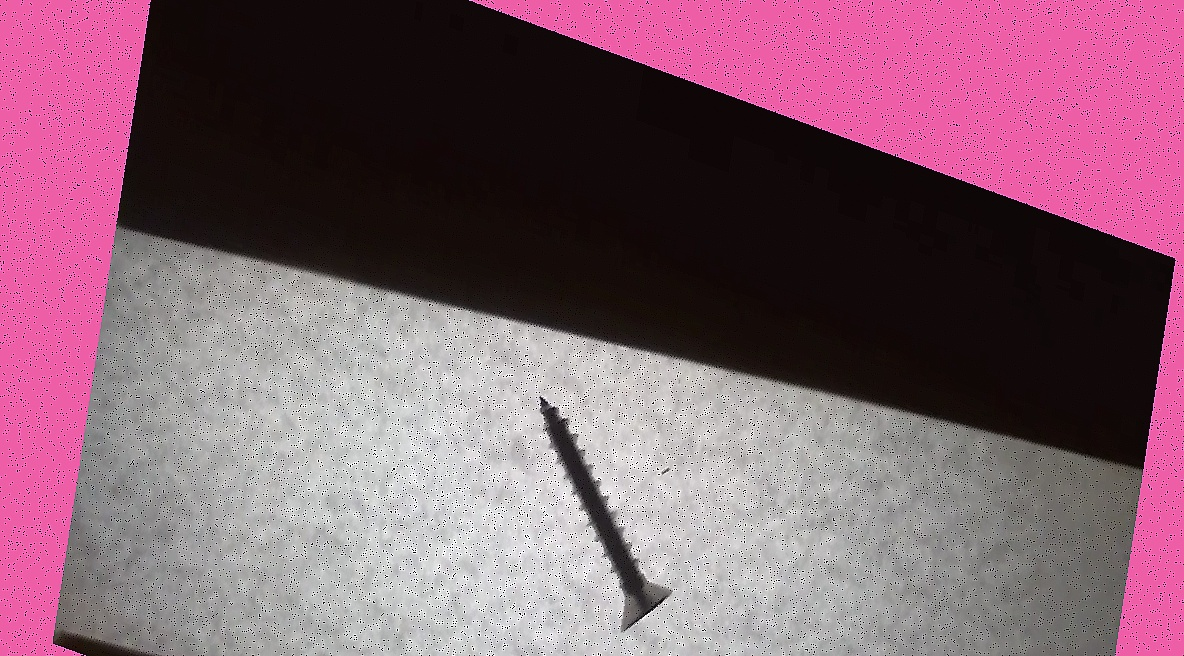S001: (486, 364, 714, 655)
